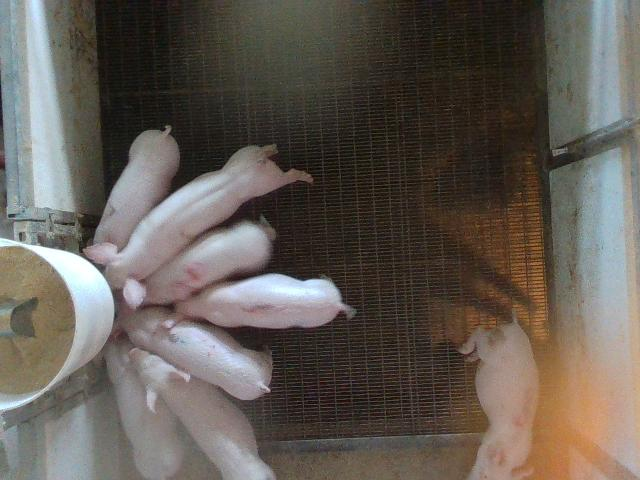pig-1: (176, 274, 355, 328)
pig-3: (459, 319, 539, 478)
pig-4: (142, 220, 275, 304)
